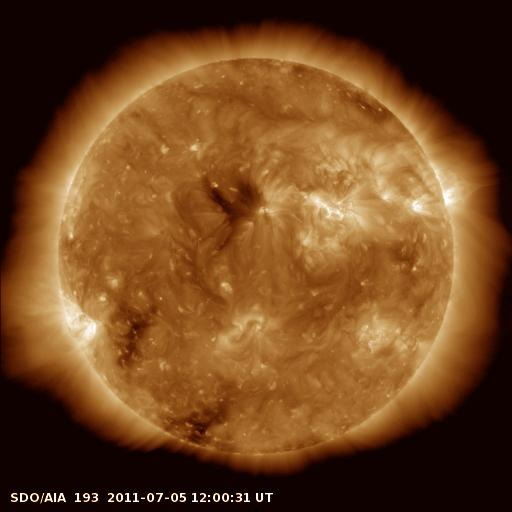coronal_hole: (206, 172, 266, 244), (110, 308, 154, 367), (166, 402, 224, 446)
